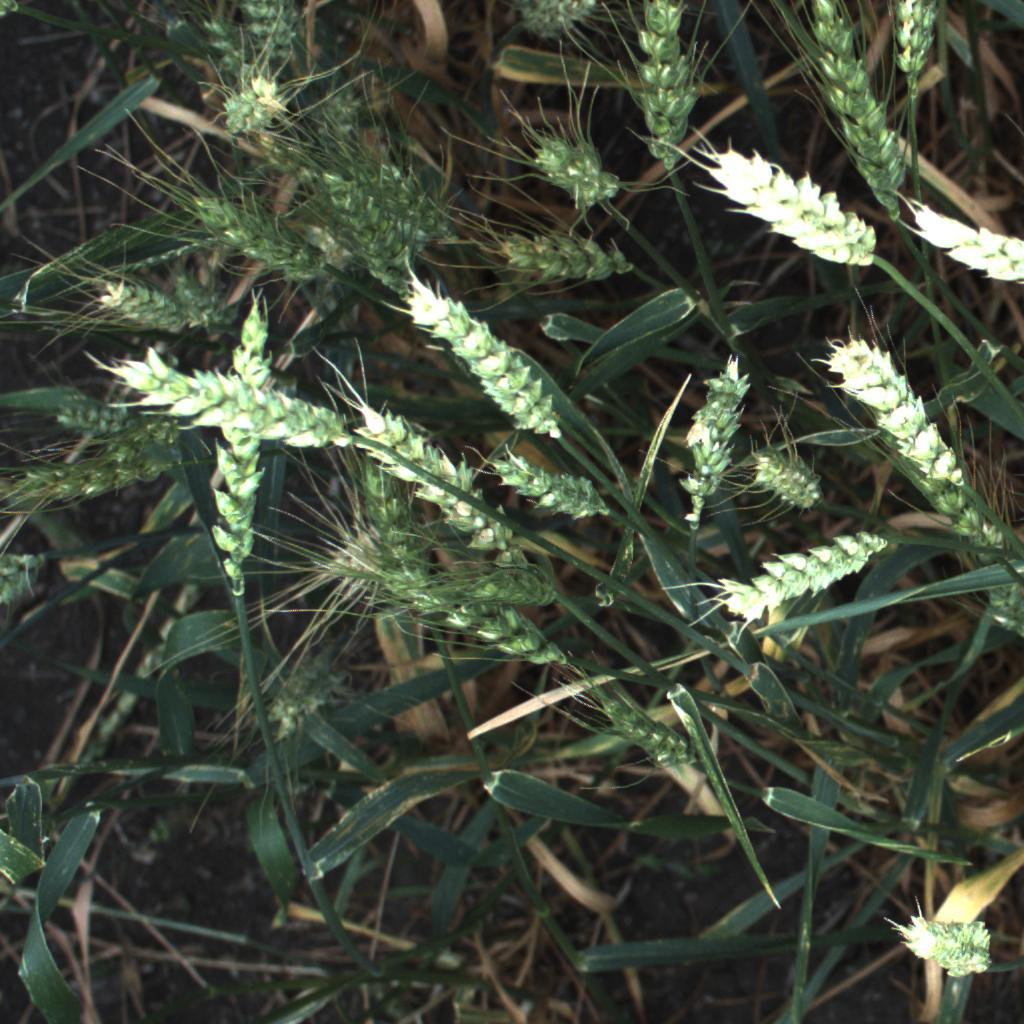0-0: (77, 343, 367, 461), (391, 263, 579, 445), (340, 400, 528, 564), (697, 124, 887, 284), (797, 0, 920, 234), (814, 330, 981, 500), (687, 515, 898, 642), (204, 294, 277, 608), (376, 572, 590, 678), (660, 342, 767, 518), (278, 159, 418, 292), (174, 184, 339, 295), (622, 0, 710, 186), (0, 435, 186, 517), (419, 547, 569, 633), (485, 219, 645, 298), (515, 114, 635, 217), (882, 889, 1003, 990), (906, 198, 1024, 298), (471, 445, 622, 522), (96, 267, 217, 352), (587, 697, 708, 781), (911, 468, 1006, 563), (737, 434, 837, 524), (258, 650, 345, 751), (203, 58, 285, 149), (882, 0, 949, 107), (248, 1, 318, 74), (502, 0, 611, 41)
